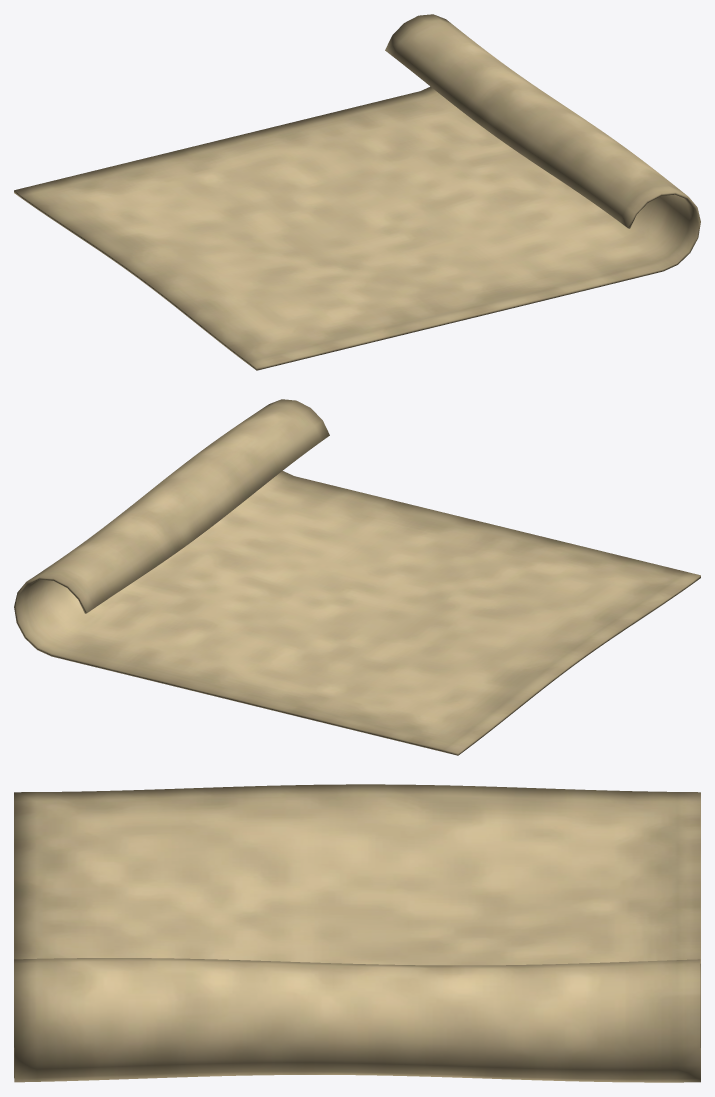
The model's file is pergament.glb.
The picture shows the model from 3 angles, top to bottom: view 1: azimuth 30°, elevation 25°; view 2: azimuth 150°, elevation 25°; view 3: azimuth 270°, elevation 25°; orthographic projection. The views are drawn at different scales.
Parts seen in each view (by area): view 1: blatt; view 2: blatt; view 3: blatt.
Part boxes in pixels (left/top/right/bottom): blatt: left=14, top=14, right=700, bottom=370; blatt: left=14, top=399, right=700, bottom=755; blatt: left=14, top=784, right=700, bottom=1082.
Size of the model in its own units: 0.2536 by 0.0468 by 0.2401.
Materials: 1 (1 with a texture image).
